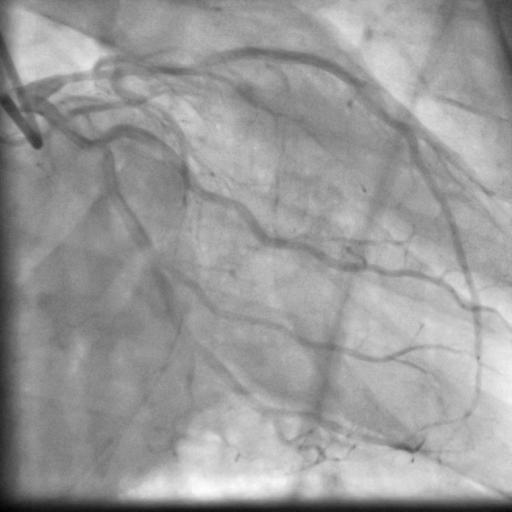Stenosis: (175, 55, 221, 72)
